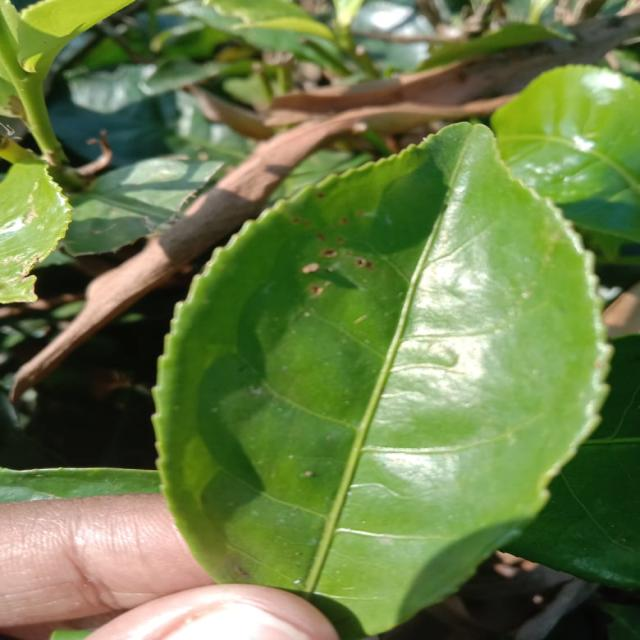Category B(2-4 days): (101, 107, 620, 638)
